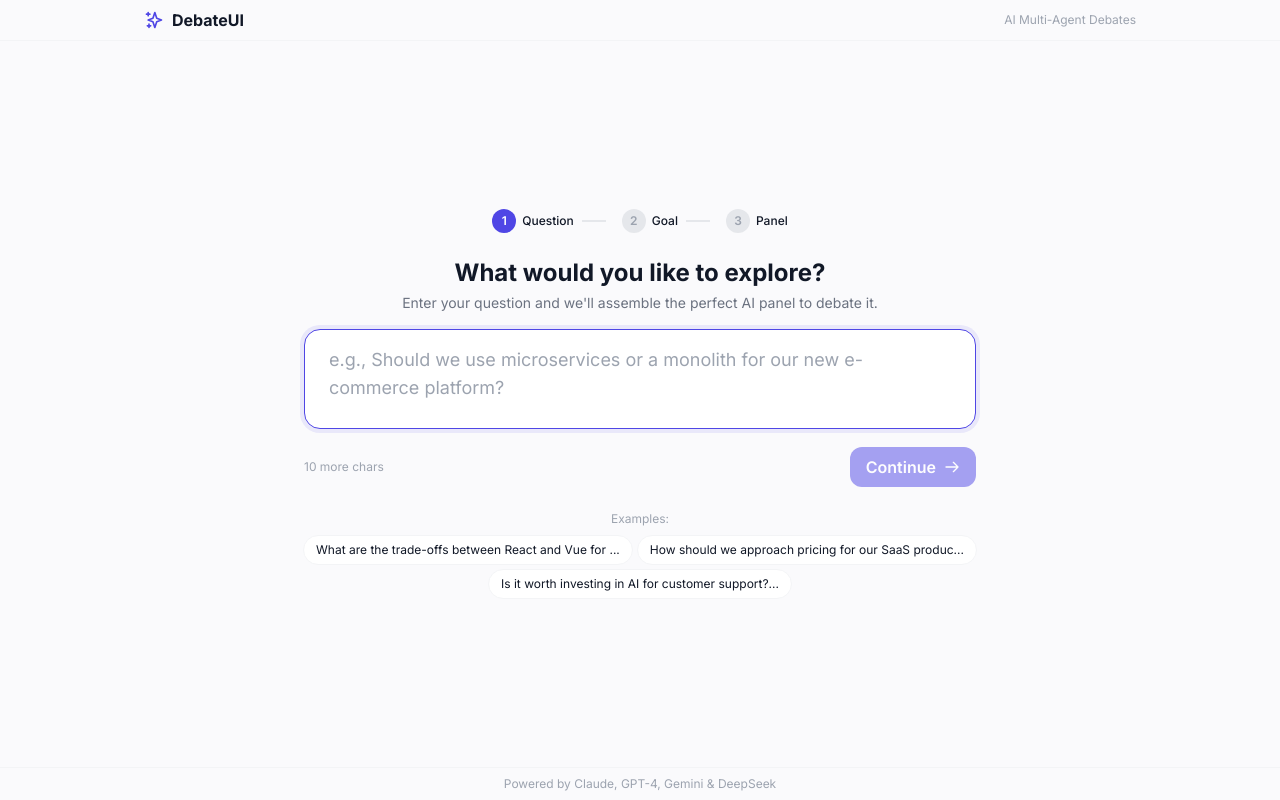
App › Question Step › clicking example fills in the question
Click the button "What are the trade-offs between React and Vue for ..." at coordinates (468, 550), box [303,535,633,565]
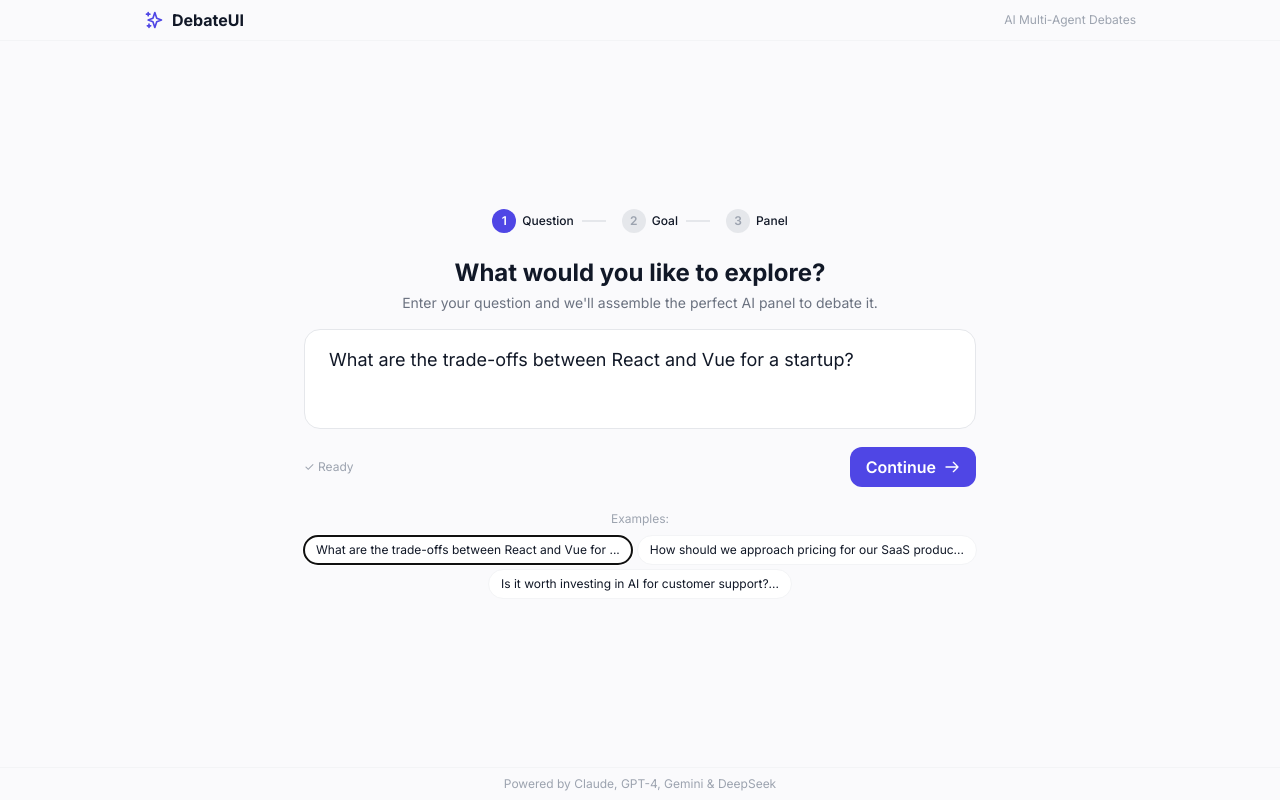
Now the text box with placeholder "microservices or a monolith" holds "What are the trade-offs between React and Vue for a startup?", box [304,329,976,429]
